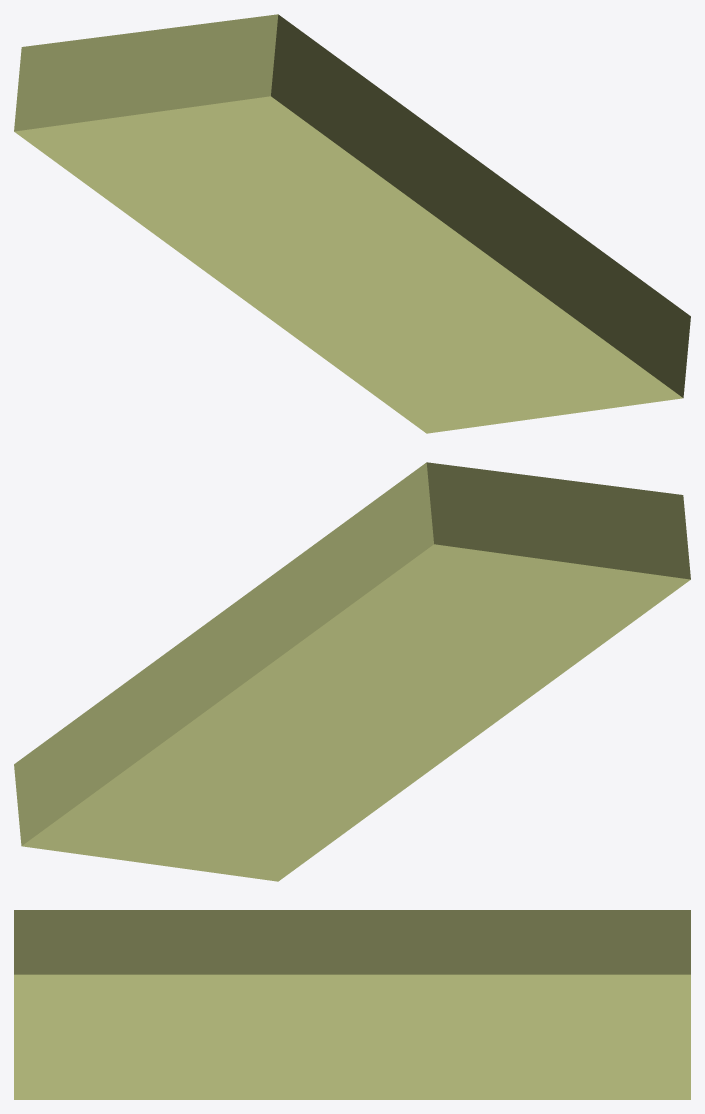
3 views of the same model, one above another, from view 1: azimuth 30°, elevation 25°; view 2: azimuth 150°, elevation 25°; view 3: azimuth 270°, elevation 25° (orthographic). The views are drawn at different scales.
Parts seen in each view (by area): view 1: 0_1_3_2_2_1_0_1_3_2_1_1; view 2: 0_1_3_2_2_1_0_1_3_2_1_1; view 3: 0_1_3_2_2_1_0_1_3_2_1_1.
Part boxes in pixels (x1=…): 0_1_3_2_2_1_0_1_3_2_1_1: x1=14, y1=14, x2=690, y2=433; 0_1_3_2_2_1_0_1_3_2_1_1: x1=14, y1=462, x2=690, y2=881; 0_1_3_2_2_1_0_1_3_2_1_1: x1=14, y1=910, x2=690, y2=1099.
Bounding box in the file's own units: 3.33 × 1.32 × 9.
